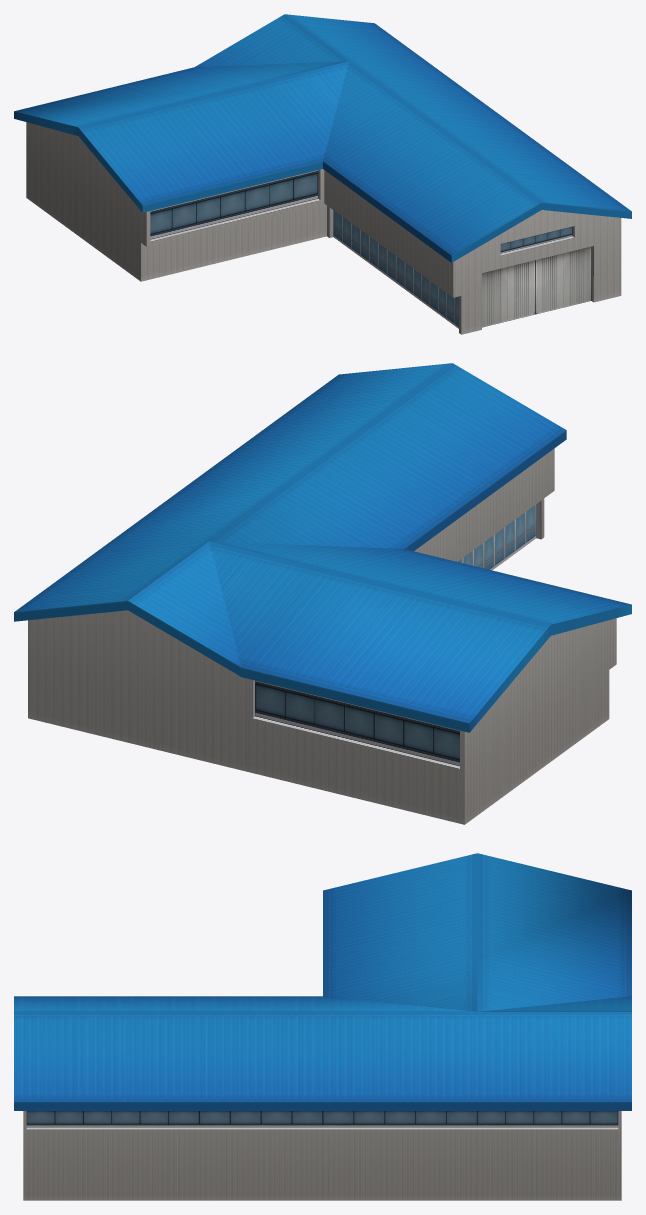
3 renders of one model, top to bottom at view 1: azimuth 30°, elevation 25°; view 2: azimuth 150°, elevation 25°; view 3: azimuth 270°, elevation 25°, orthographic. The views are drawn at different scales.
Visible parts, largest first — view 1: MainBuilding; view 2: MainBuilding; view 3: MainBuilding.
Part boxes in pixels (x1,y1,x2,y2): MainBuilding: [14, 14, 631, 334]; MainBuilding: [14, 363, 631, 824]; MainBuilding: [14, 853, 631, 1200].
Size of the model in its own units: 4.43 by 1.37 by 5.46.
Materials: 1 (1 with a texture image).
